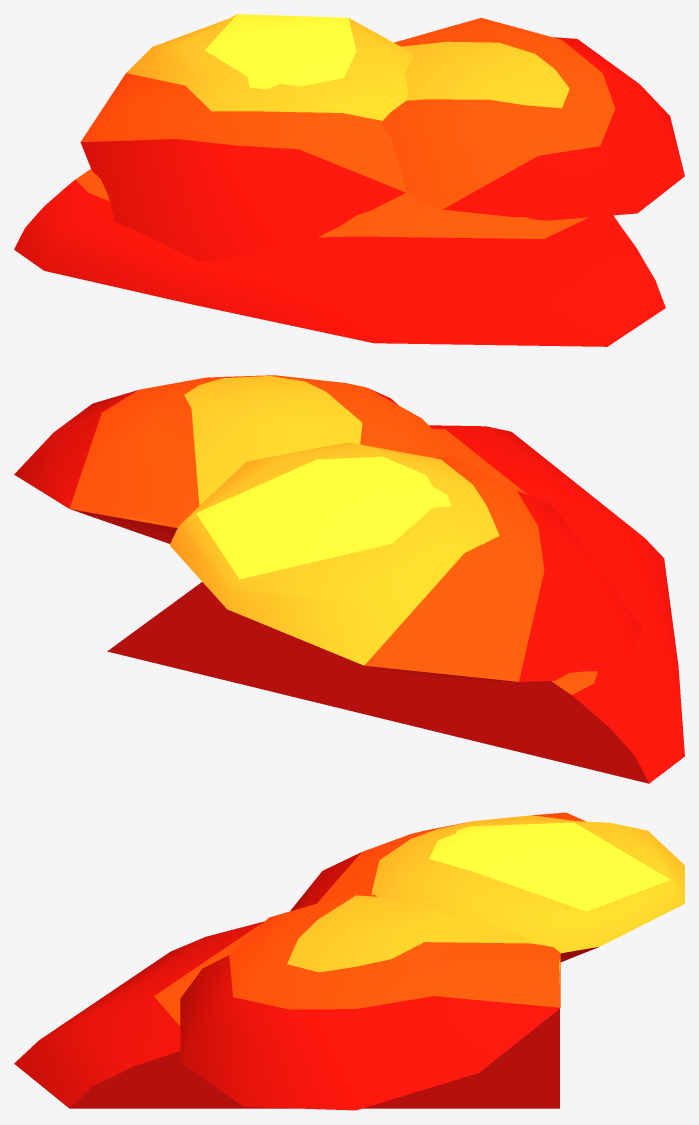
Rendered from shot_zflame_214.glb.
The picture shows the model from 3 angles, top to bottom: view 1: azimuth 30°, elevation 25°; view 2: azimuth 150°, elevation 25°; view 3: azimuth 270°, elevation 25°; orthographic projection. The views are drawn at different scales.
Parts seen in each view (by area): view 1: zflame_4_bed_b214, zflame_4_billow1_b214, zflame_4_billow2_b214; view 2: zflame_4_billow1_b214, zflame_4_bed_b214, zflame_4_billow2_b214; view 3: zflame_4_billow2_b214, zflame_4_billow1_b214, zflame_4_bed_b214.
Boxes of the visible parts, x1=… form: zflame_4_bed_b214: x1=14, y1=169, x2=665, y2=346; zflame_4_billow1_b214: x1=80, y1=14, x2=413, y2=262; zflame_4_billow2_b214: x1=382, y1=18, x2=684, y2=220; zflame_4_billow1_b214: x1=169, y1=442, x2=642, y2=681; zflame_4_bed_b214: x1=107, y1=425, x2=684, y2=783; zflame_4_billow2_b214: x1=14, y1=375, x2=465, y2=543; zflame_4_billow2_b214: x1=180, y1=892, x2=560, y2=1110; zflame_4_billow1_b214: x1=290, y1=812, x2=684, y2=962; zflame_4_bed_b214: x1=14, y1=921, x2=559, y2=1108.
Bounding box in the file's own units: 12.3 × 3.28 × 11.52.
